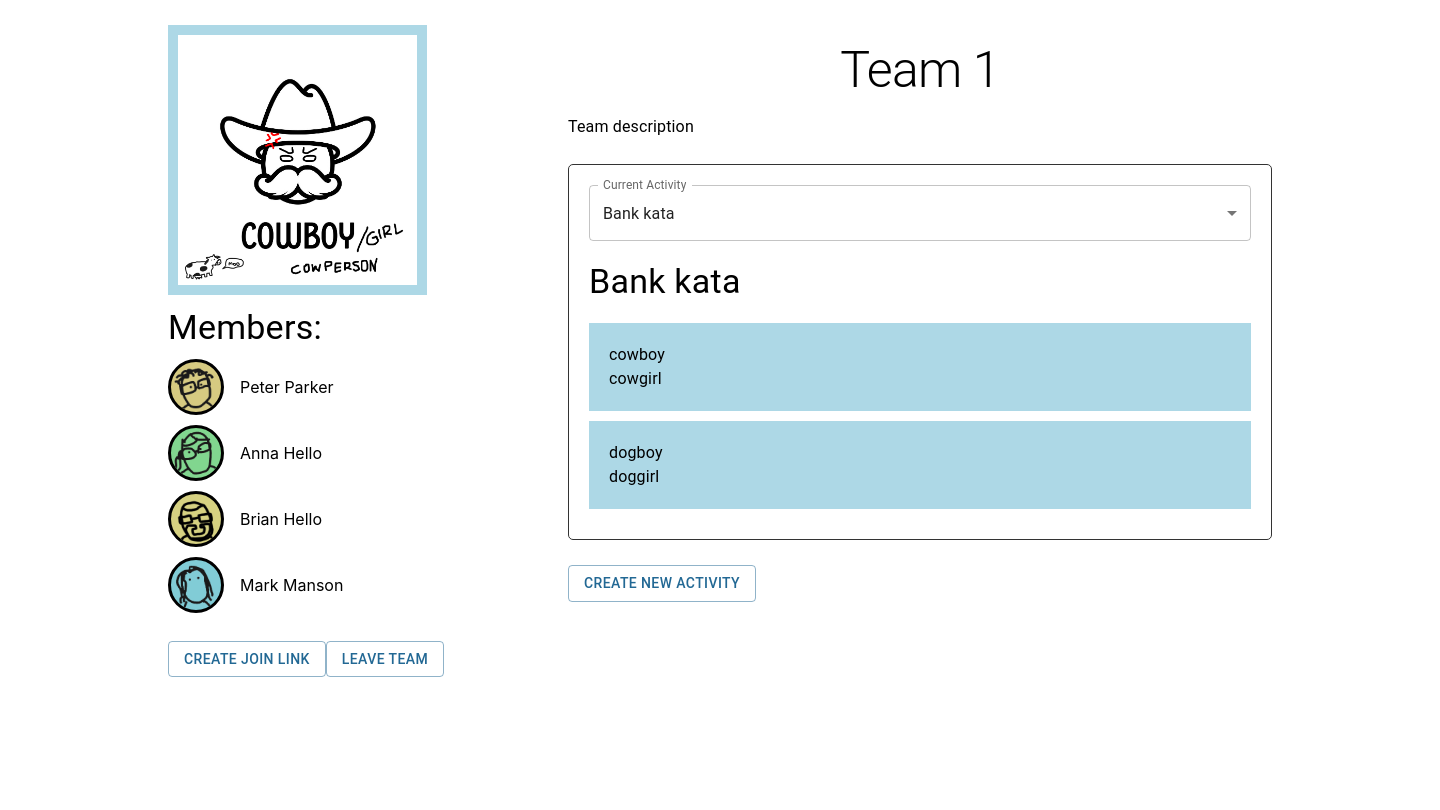
Test case: Team page should › Team page activity display should › display the submit button at modal when you click create activity button
Click the button "create new activity" at (662, 584), box [568, 565, 756, 602]
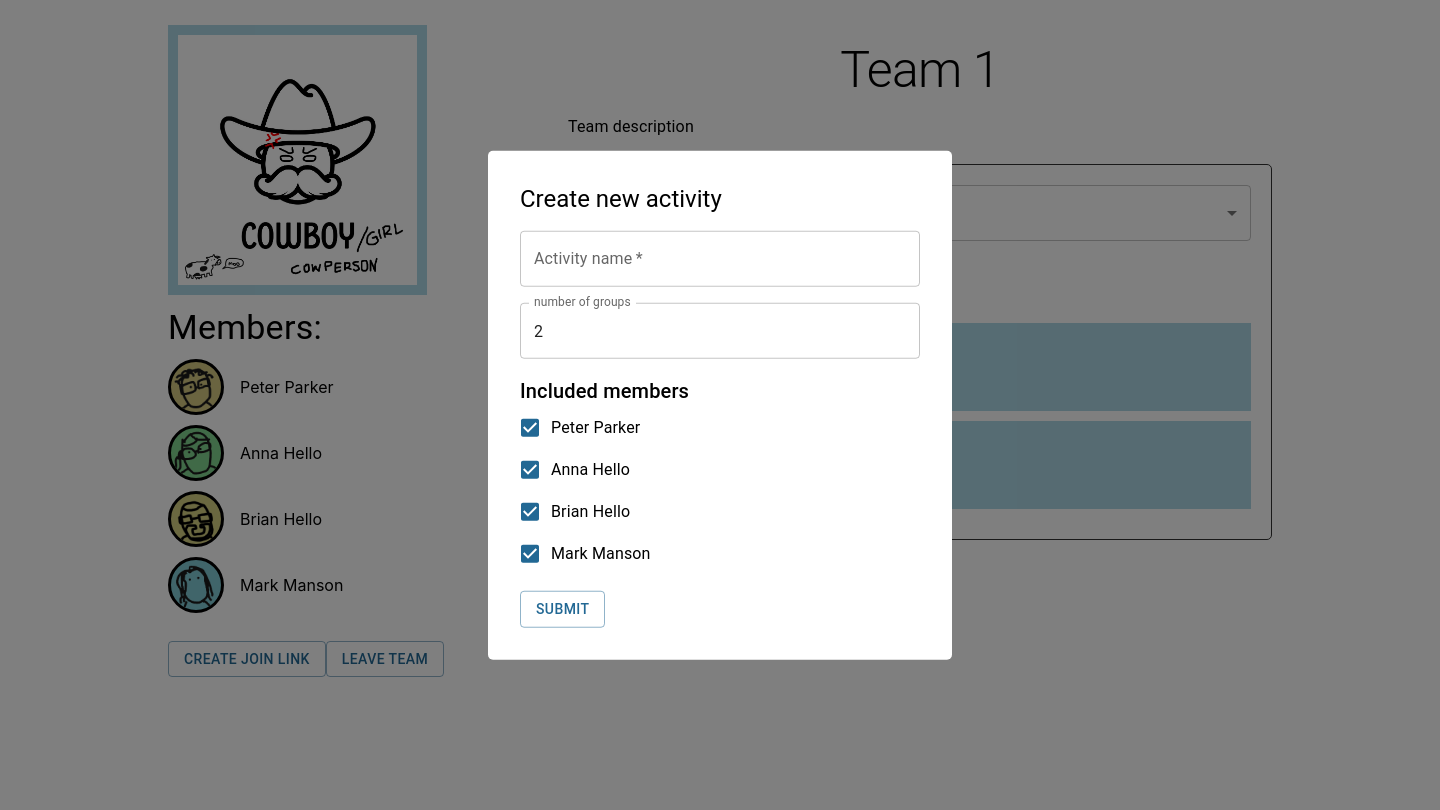
Result: the button with test id "activity-submit-button" is shown at [520, 591, 605, 627]
